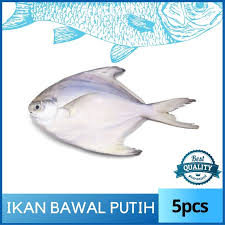Ikan Bawal: (22, 60, 207, 161)
